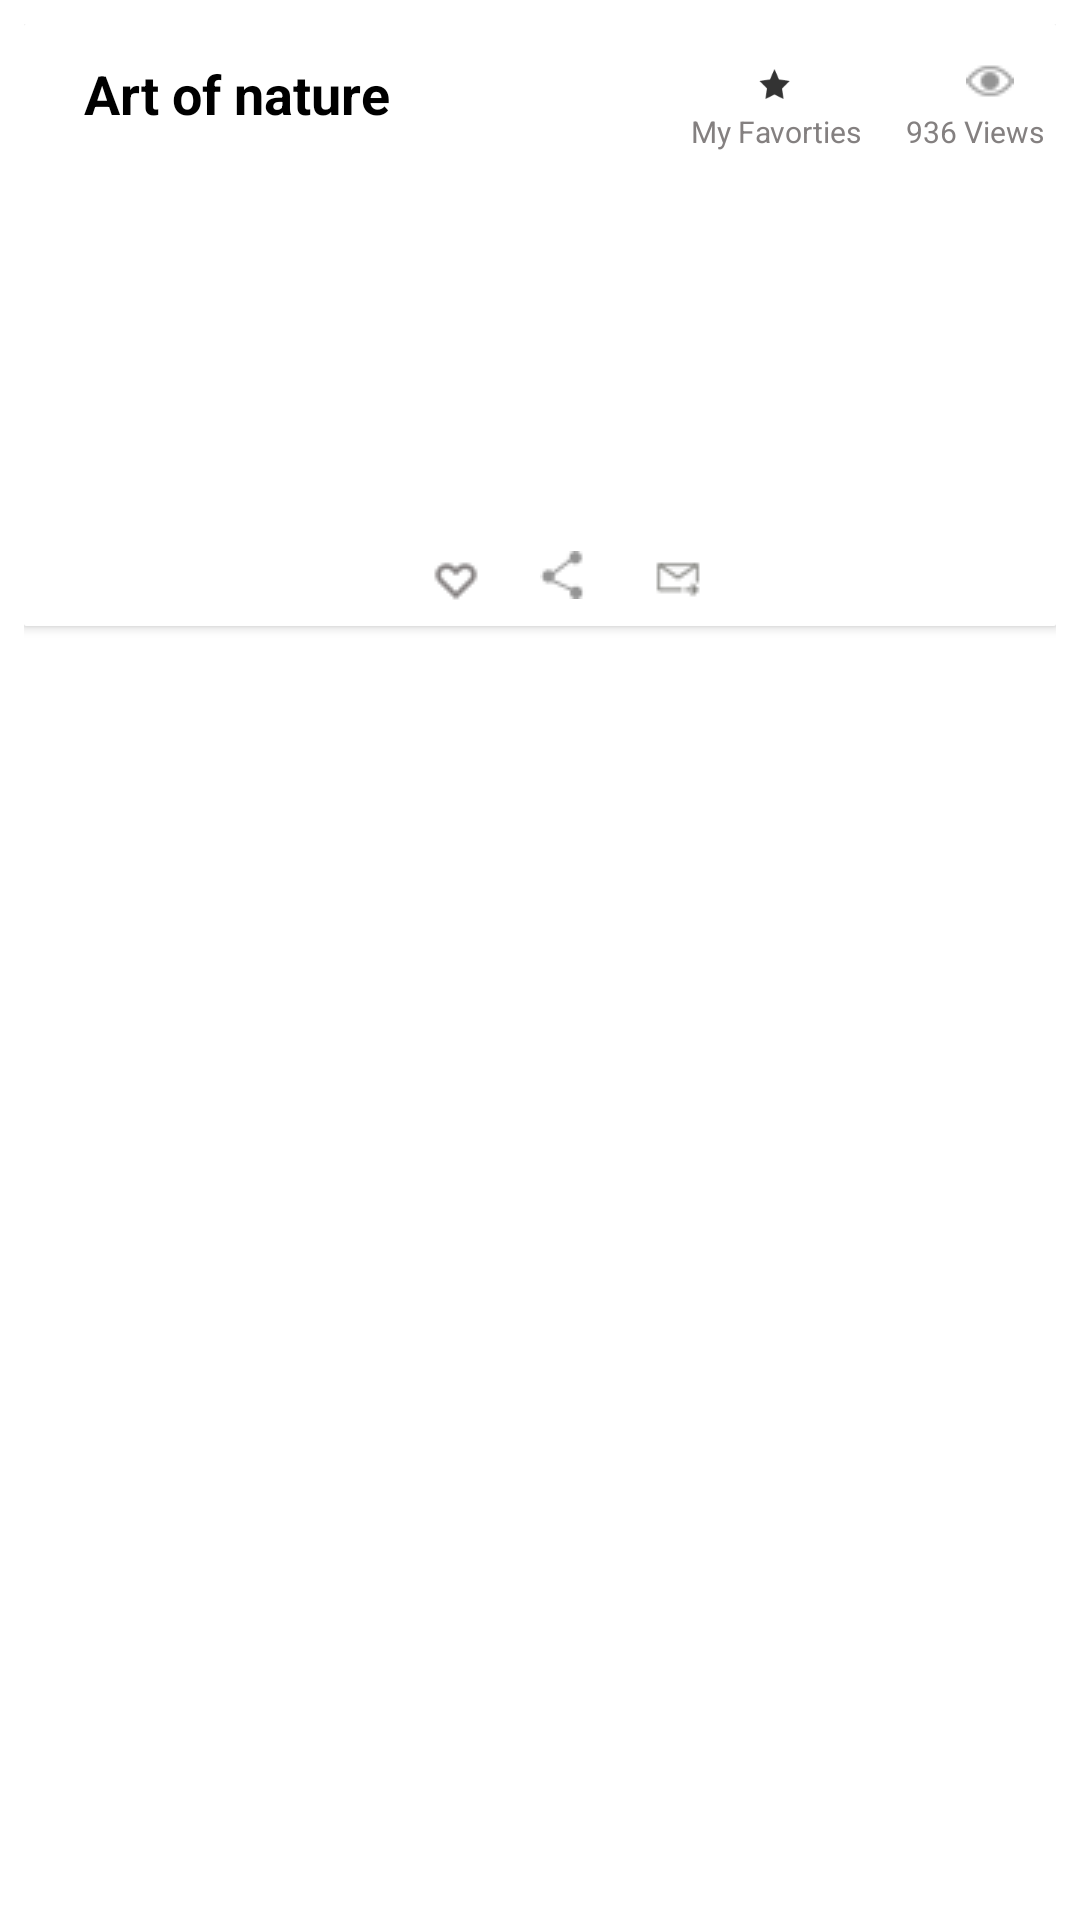

Icons on this 1080px×1920px Android screen, each with its box as (x1, y1, x2, y2):
like: (434, 562, 478, 599)
send: (656, 562, 700, 596)
share: (542, 551, 583, 599)
star: (759, 69, 790, 99)
visible: (966, 65, 1014, 97)
